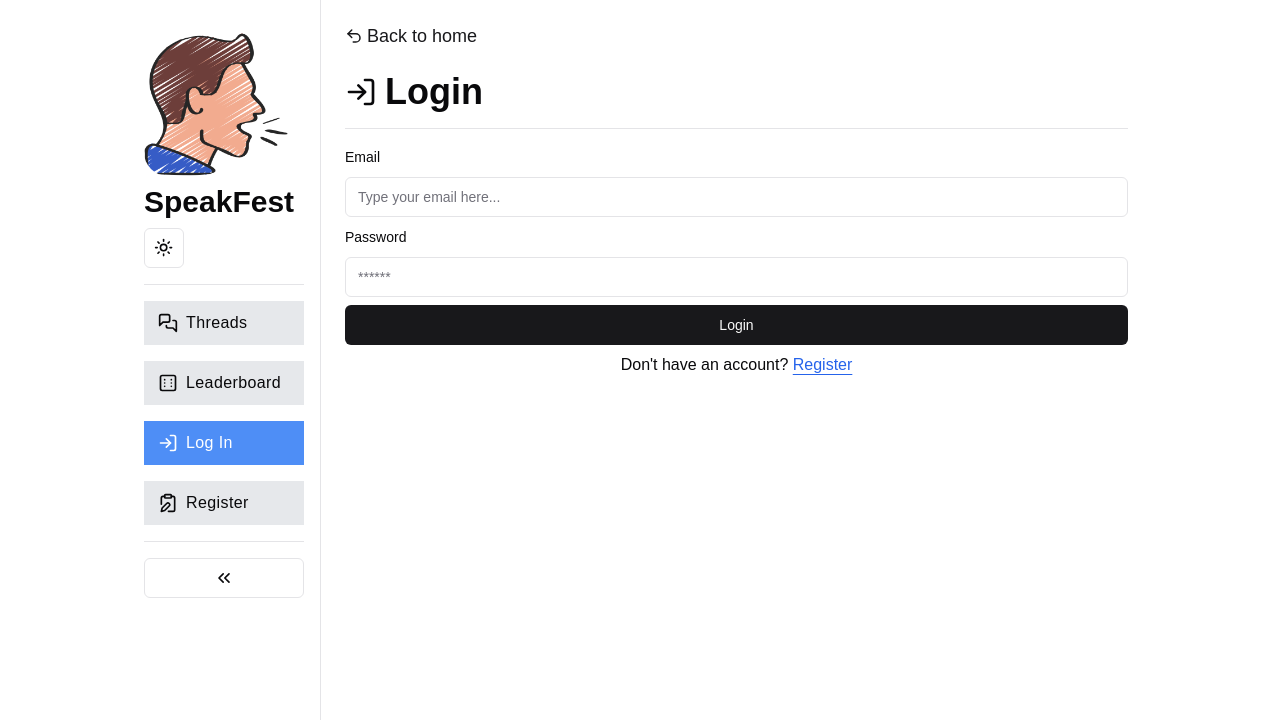
Login spec › should display error message & disabled button login if password less than 6 character
In the password field labelled "Password": (737, 277) [345,257,1128,297], type "zeta"
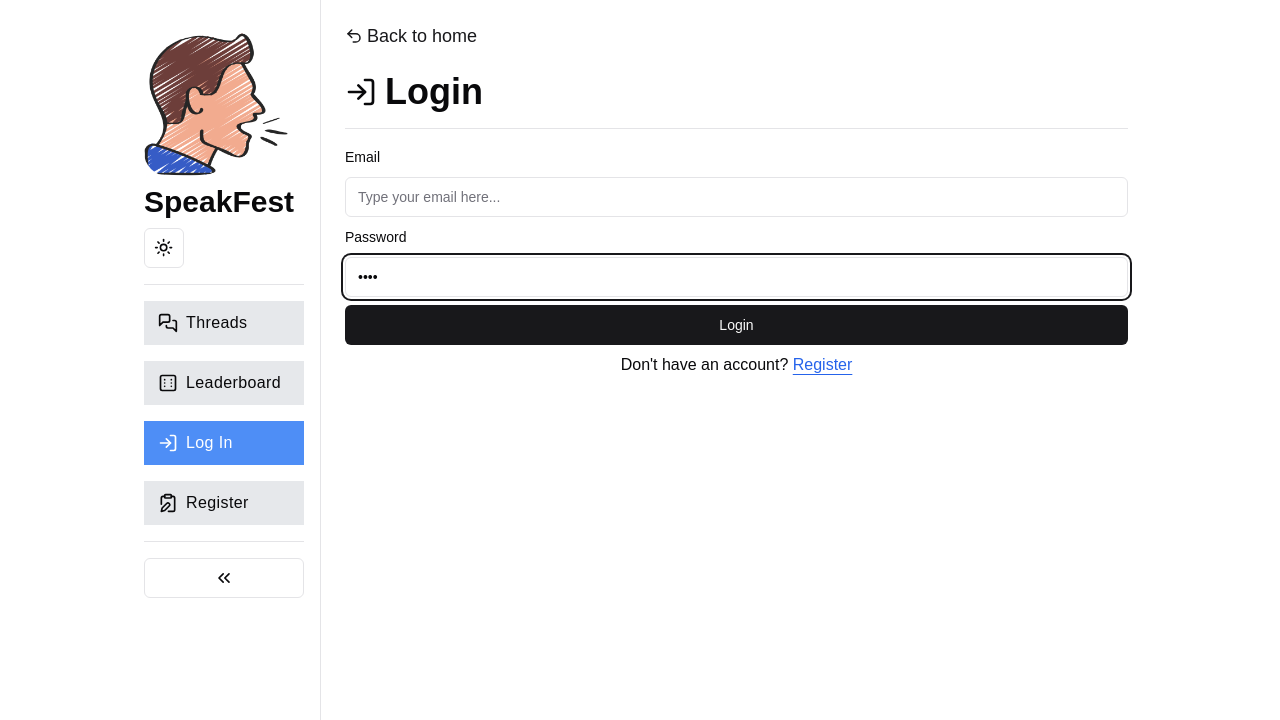
Submit the form, box [345,145,1128,345]
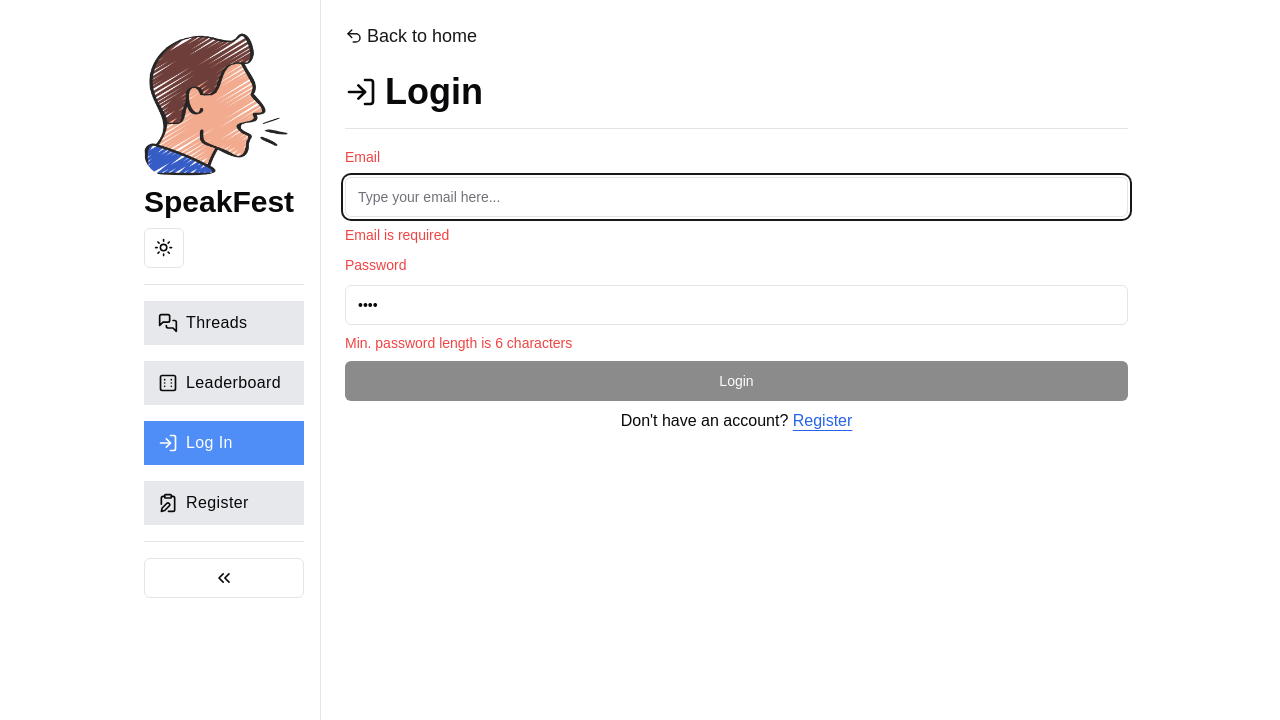
Expected: the button without text below "SpeakFest" is disabled, [144,228,184,268]
Expected: the text "Email is required" is shown, [345,227,449,243]
Expected: the text "Min. password length is 6 characters" is shown, [345,335,572,351]
